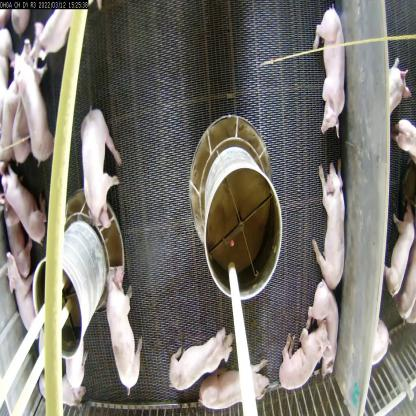Pig: (166, 320, 237, 406), (108, 255, 149, 393), (309, 158, 352, 288), (79, 104, 125, 224), (9, 44, 55, 154), (307, 10, 344, 140), (196, 359, 271, 415), (278, 320, 324, 407), (308, 283, 350, 377), (6, 236, 37, 357), (2, 162, 46, 240)
